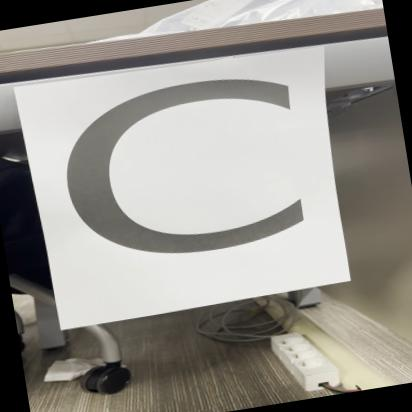seat: (6, 45, 346, 328)
